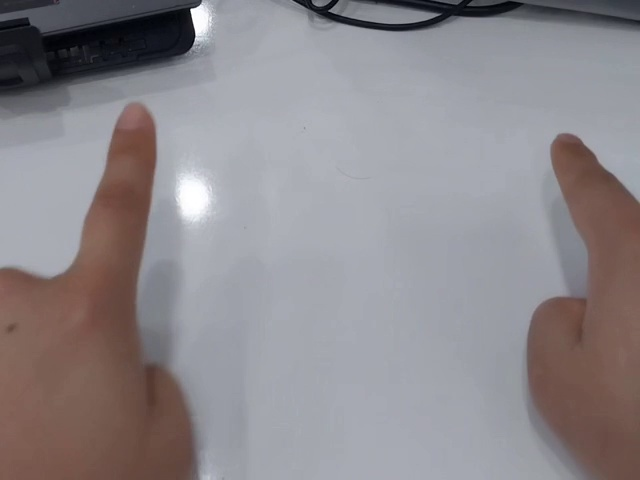fingers: (108, 101, 157, 153), (549, 131, 599, 176)
